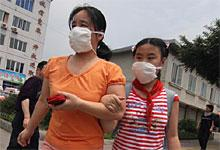yes_mask: (68, 4, 106, 55), (129, 39, 168, 84)
